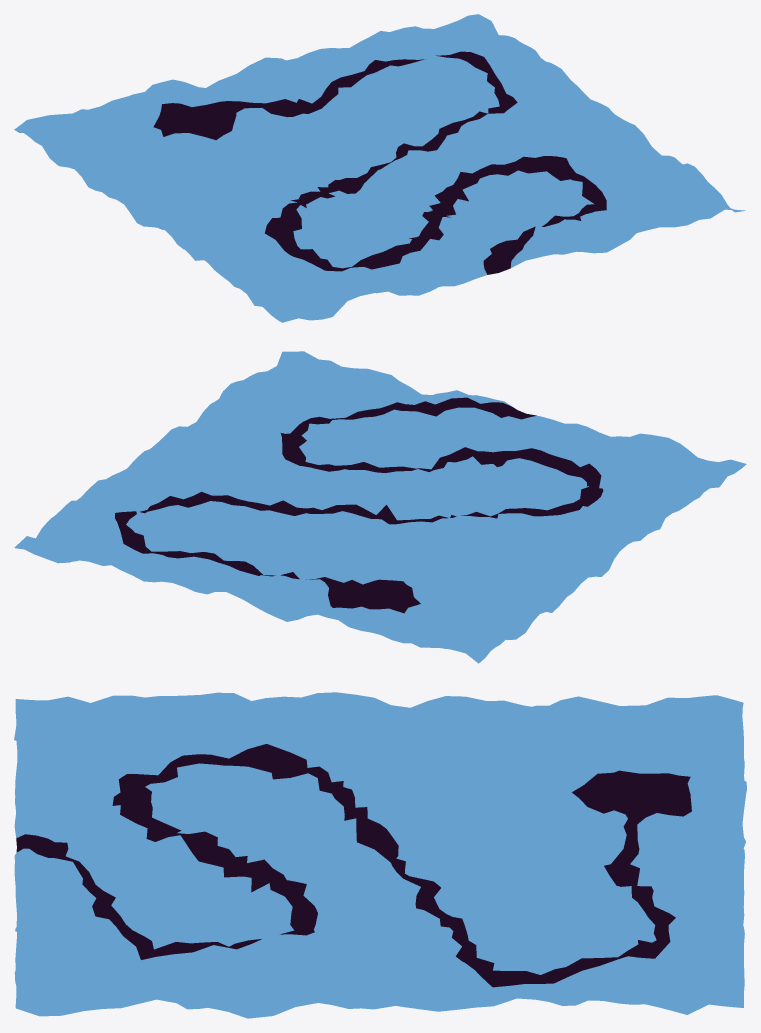
The model's file is WaterForLevel055.fbx.
3 views of the same model, one above another, from view 1: azimuth 30°, elevation 25°; view 2: azimuth 150°, elevation 25°; view 3: azimuth 270°, elevation 25° (orthographic). The views are drawn at different scales.
Visible parts, largest first — view 1: Plane; view 2: Plane; view 3: Plane.
Boxes of the visible parts, bbox=[...] form: Plane: bbox=[14, 14, 745, 322]; Plane: bbox=[14, 351, 746, 663]; Plane: bbox=[14, 692, 746, 1018].
Size of the model in its own units: 5101 by 303 by 5112.
